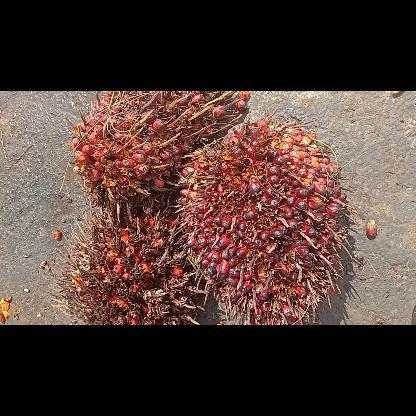TBS masak: (174, 112, 350, 324), (65, 91, 243, 221)
Terlalu masak: (49, 200, 206, 324)
